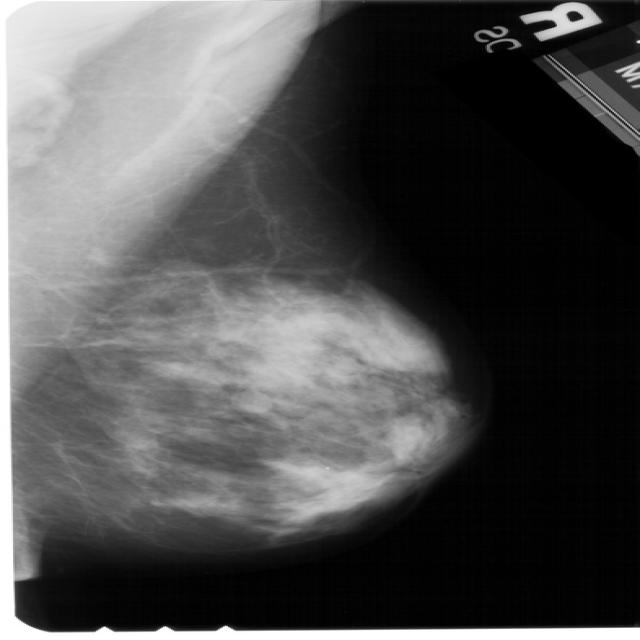tumour: (228, 389, 270, 413)
